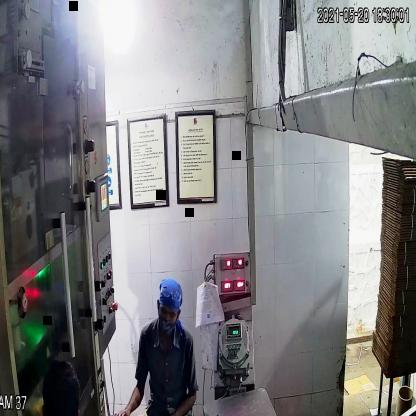no_goggles: (156, 299, 182, 323)
